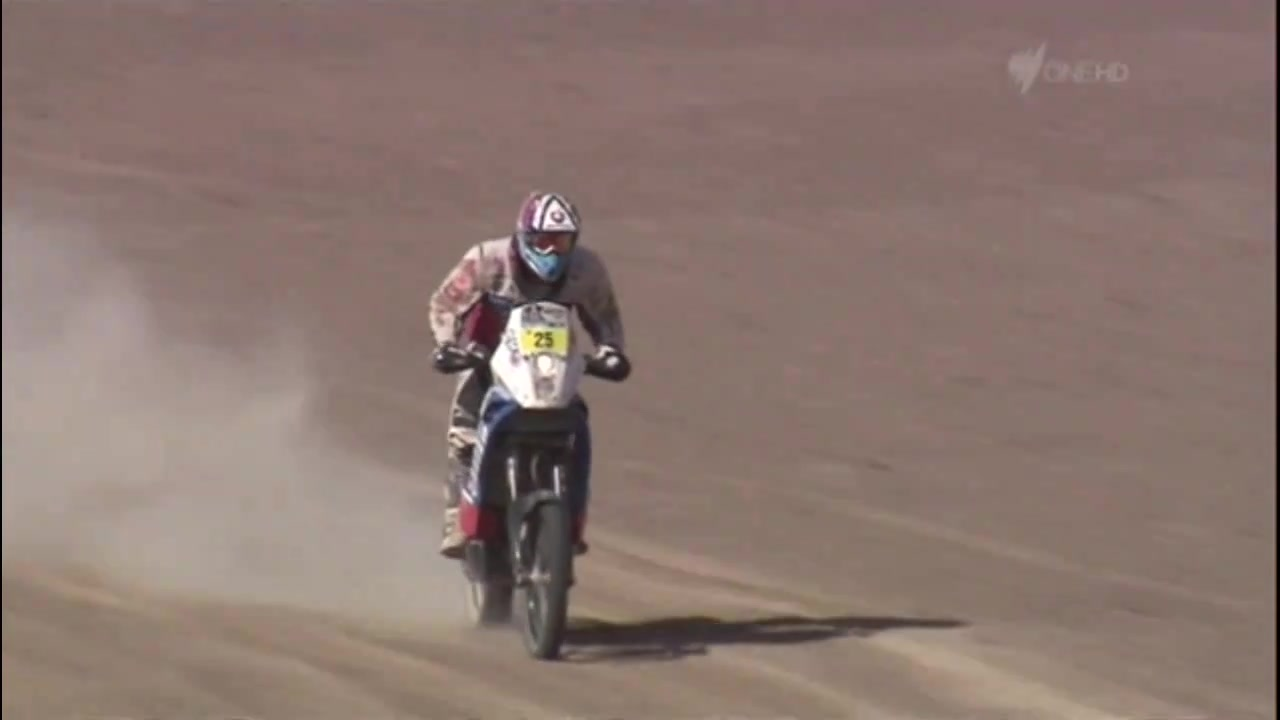motorbike: (430, 294, 634, 655)
